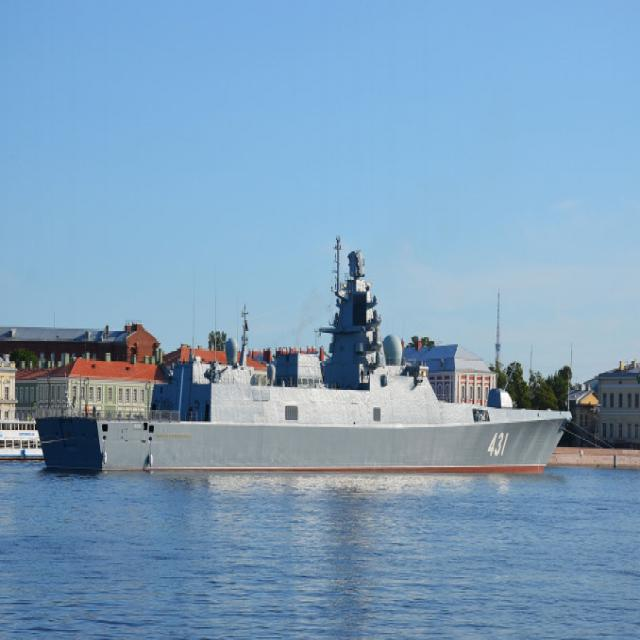Fragata: (26, 237, 580, 481)
